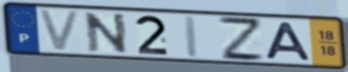2: (134, 14, 170, 56)
A: (263, 21, 314, 62)
I: (183, 14, 201, 60)
N: (82, 11, 130, 55)
V: (36, 8, 84, 53)
Z: (216, 14, 267, 62)
